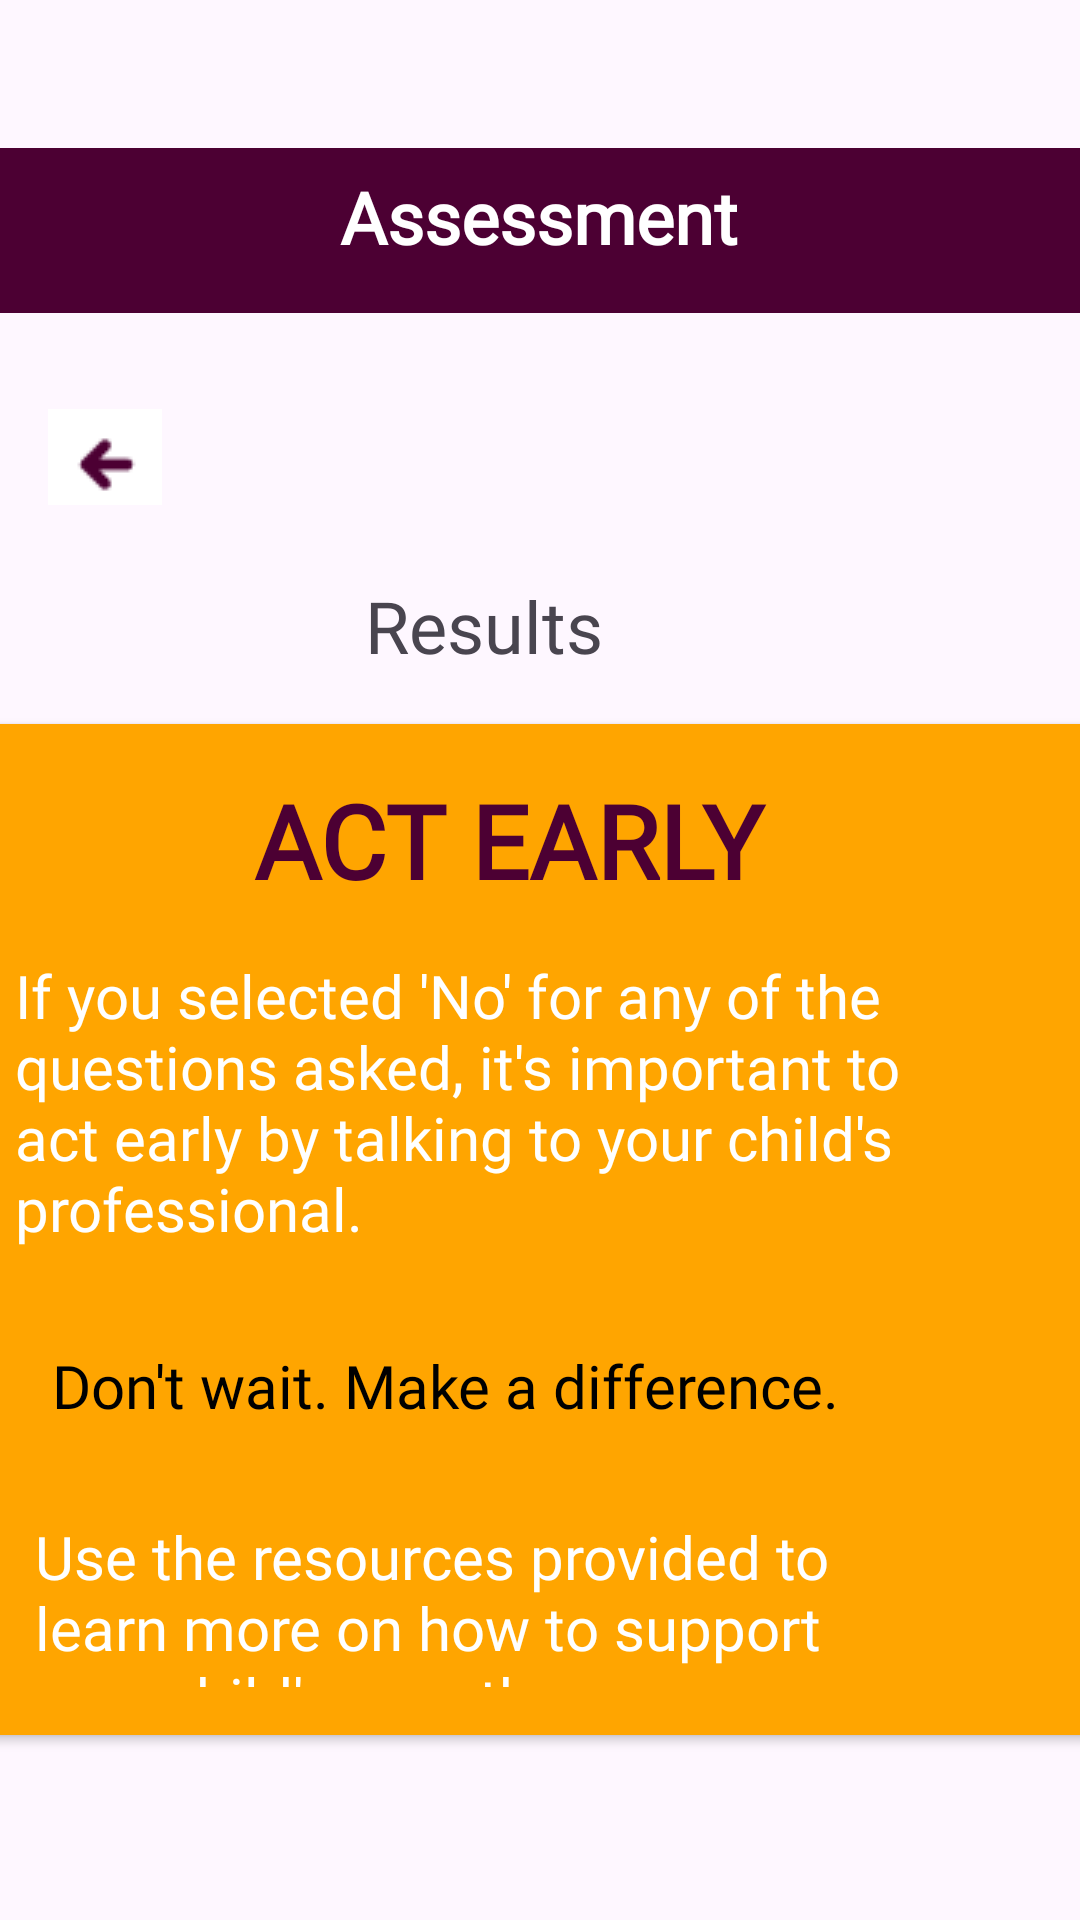

Icon click points for this 1080×1920 phone screenshot, format (x,y):
backarrow: (106,464)
